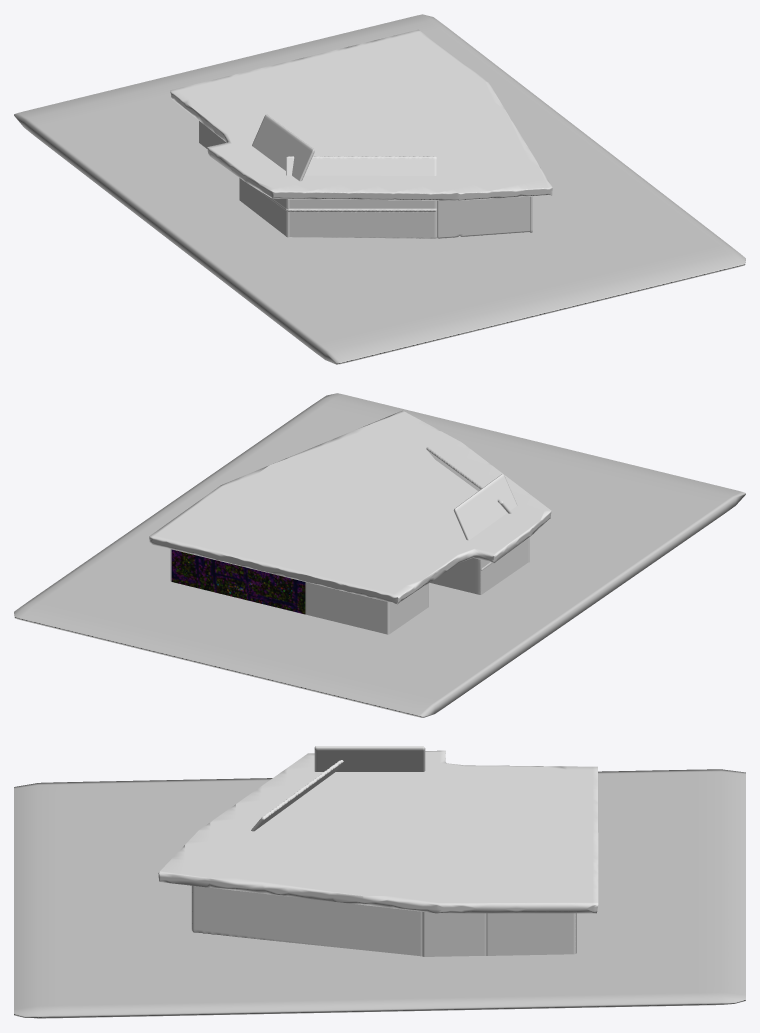
Rendered from ps1house.fbx.
The picture shows the model from 3 angles, top to bottom: view 1: azimuth 30°, elevation 25°; view 2: azimuth 150°, elevation 25°; view 3: azimuth 270°, elevation 25°; orthographic projection. The views are drawn at different scales.
Parts seen in each view (by area): view 1: Box.042, Box.045, Box.043, Box.023, Box.026, Box.044, Box.027; view 2: Box.042, Box.045, Box.037, Box.038, Box.044, Box.027, Box.031, Box.041; view 3: Box.042, Box.045, Box.024, Box.036, Box.044, Box.033, Box.026.
Boxes of the visible parts, x1,y1,x2,y2 form: Box.042: [14, 14, 745, 364]; Box.045: [170, 29, 552, 200]; Box.043: [286, 199, 436, 238]; Box.023: [437, 196, 529, 238]; Box.026: [286, 156, 436, 212]; Box.044: [252, 114, 314, 211]; Box.027: [239, 178, 289, 237]; Box.042: [14, 393, 745, 717]; Box.045: [149, 410, 551, 604]; Box.037: [171, 549, 305, 614]; Box.038: [305, 582, 389, 634]; Box.044: [453, 474, 517, 570]; Box.027: [480, 538, 528, 594]; Box.031: [430, 558, 481, 594]; Box.041: [389, 584, 428, 633]; Box.042: [14, 769, 745, 1018]; Box.045: [158, 750, 598, 913]; Box.024: [191, 885, 422, 956]; Box.036: [487, 913, 576, 955]; Box.044: [314, 746, 425, 771]; Box.033: [422, 912, 485, 956]; Box.026: [251, 760, 343, 831].
Size of the model in its own units: 95009 by 20604 by 127781.
